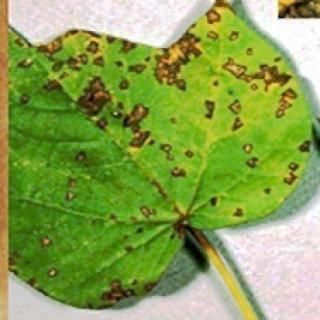blight: (14, 2, 320, 200), (9, 220, 158, 304)
